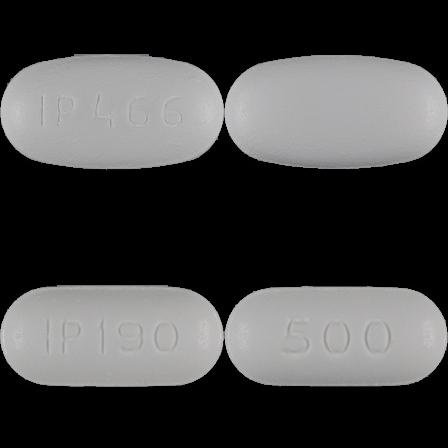63629-1470: (0, 0, 224, 224)
